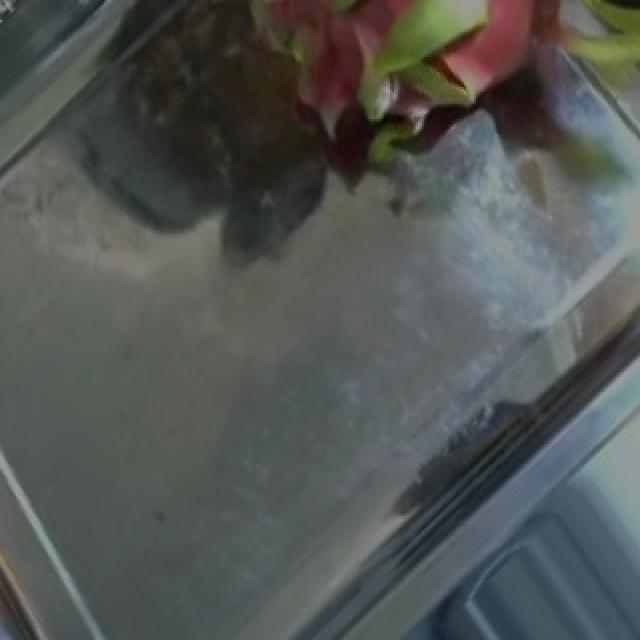fruit: (210, 0, 636, 275)
